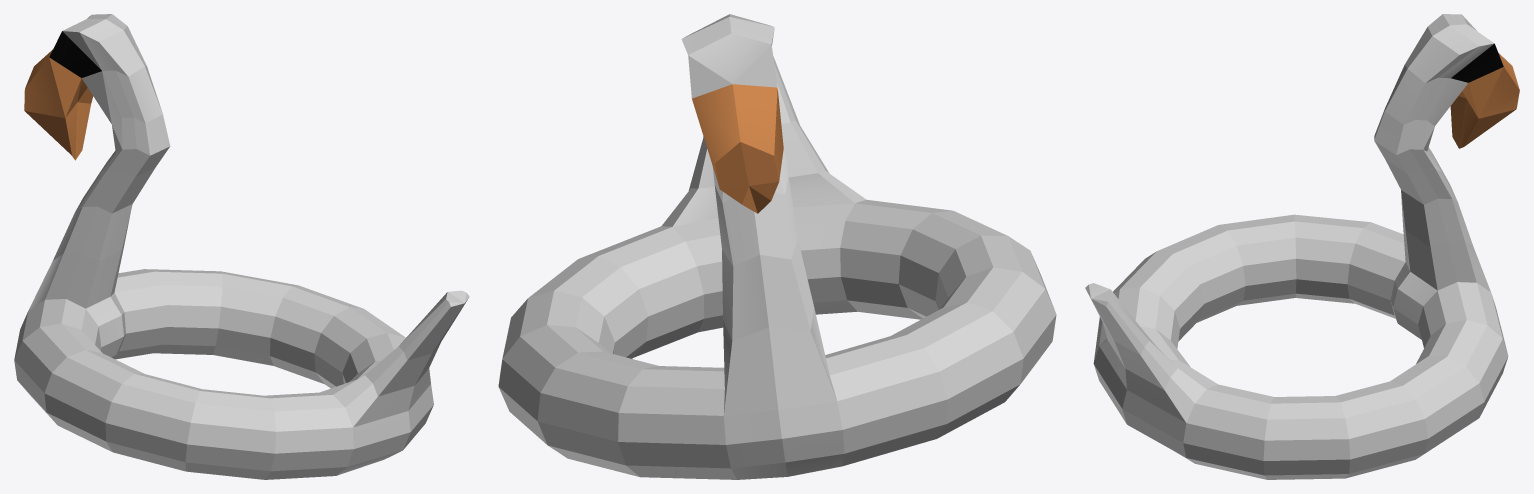
File: Flotador2.fbx
3 views of the same model, side by side, from view 1: azimuth 30°, elevation 25°; view 2: azimuth 150°, elevation 25°; view 3: azimuth 270°, elevation 25° (orthographic). The views are drawn at different scales.
Parts seen in each view (by area): view 1: FLOAT2; view 2: FLOAT2; view 3: FLOAT2.
Part boxes in pixels (<box>): FLOAT2: <box>14,14,469,479</box>; FLOAT2: <box>498,14,1056,479</box>; FLOAT2: <box>1085,14,1519,479</box>.
Bounding box in the file's own units: 0.687 × 0.6705 × 0.7295.
